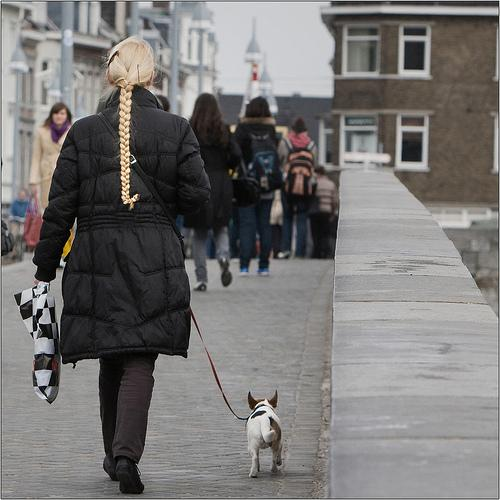person: (34, 38, 211, 495)
